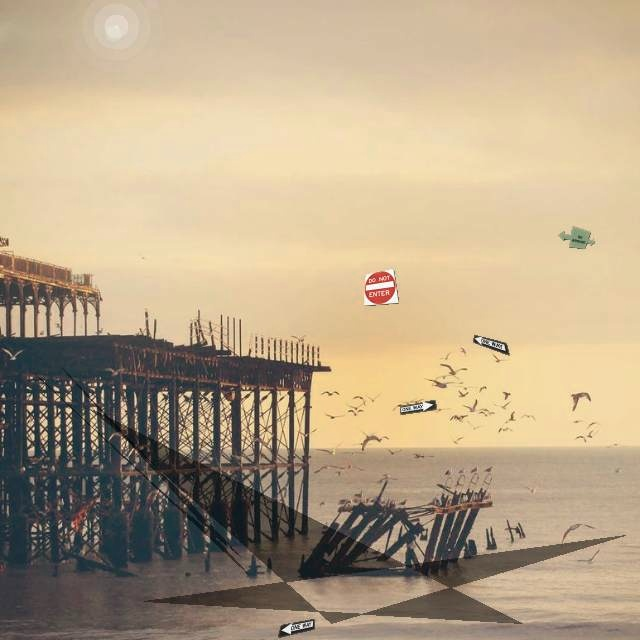DO_NOT_ENTER: (363, 268, 399, 306)
GO_AROUND: (557, 225, 595, 249)
ONE_WAY_ left: (472, 334, 510, 356), (277, 618, 315, 638)
ONE_WAY_ right: (399, 399, 437, 415)
